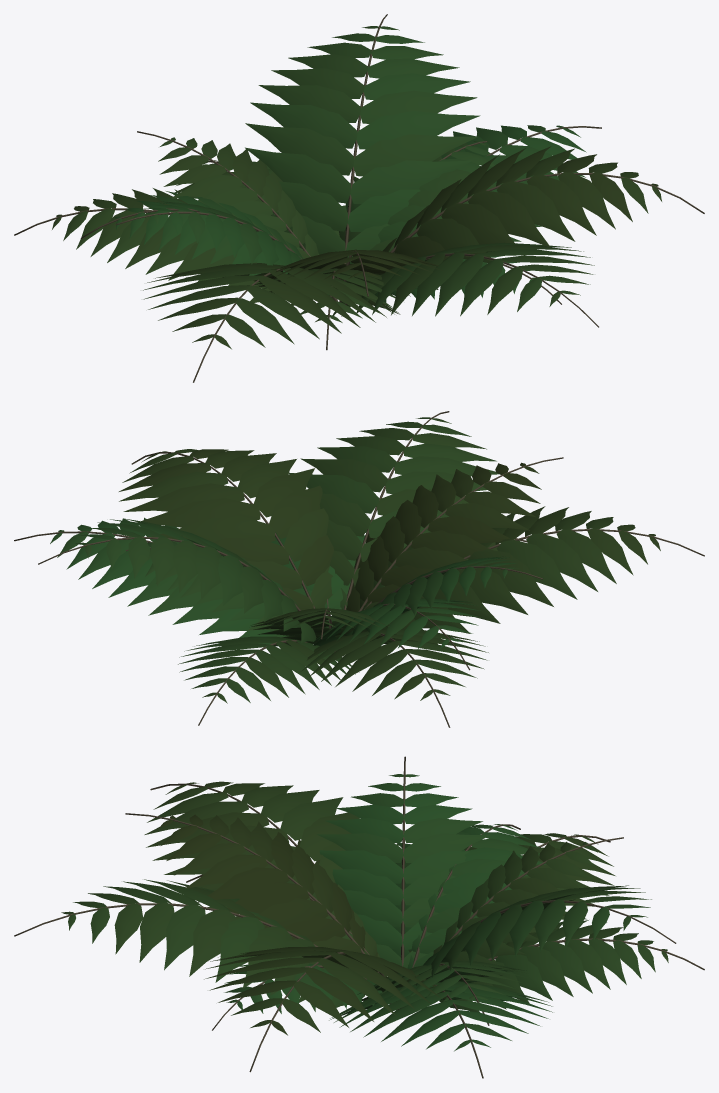
Rendered from ER_Fougere_Grande.gltf.
3 renders of one model, top to bottom at view 1: azimuth 30°, elevation 25°; view 2: azimuth 150°, elevation 25°; view 3: azimuth 270°, elevation 25°, orthographic. The views are drawn at different scales.
Visible parts, largest first — view 1: ER_Fougere_Grande_FOU.001, ER_Fougere_Grande_TIG.001; view 2: ER_Fougere_Grande_FOU.001, ER_Fougere_Grande_TIG.001; view 3: ER_Fougere_Grande_FOU.001, ER_Fougere_Grande_TIG.001.
Boxes of the visible parts, <box> form: ER_Fougere_Grande_FOU.001: <box>52,26,661,349</box>; ER_Fougere_Grande_TIG.001: <box>14,14,704,382</box>; ER_Fougere_Grande_FOU.001: <box>50,417,660,703</box>; ER_Fougere_Grande_TIG.001: <box>14,411,704,727</box>; ER_Fougere_Grande_FOU.001: <box>61,774,668,1051</box>; ER_Fougere_Grande_TIG.001: <box>14,756,704,1078</box>.
Size of the model in its own units: 2.12 by 0.6054 by 2.18.
